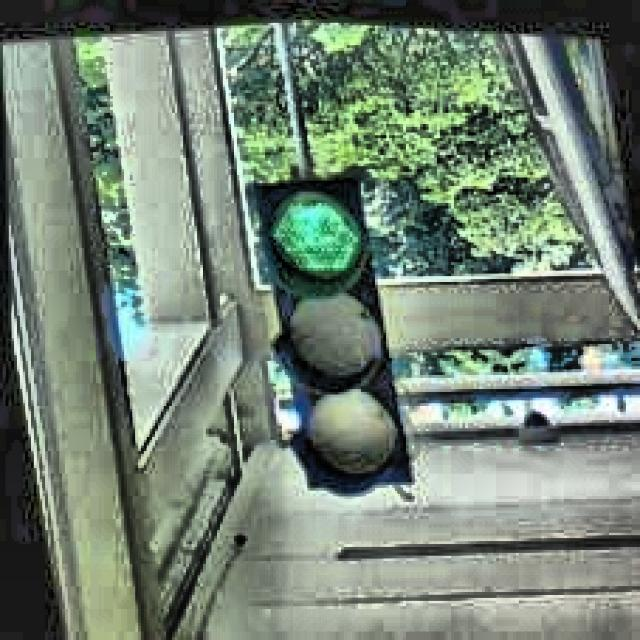green: (249, 165, 416, 495)
